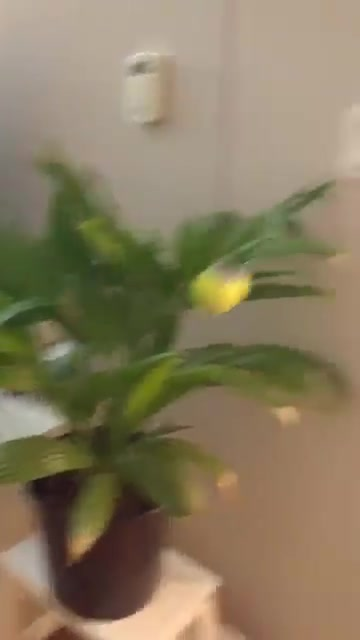tennis_ball: (187, 260, 252, 318)
